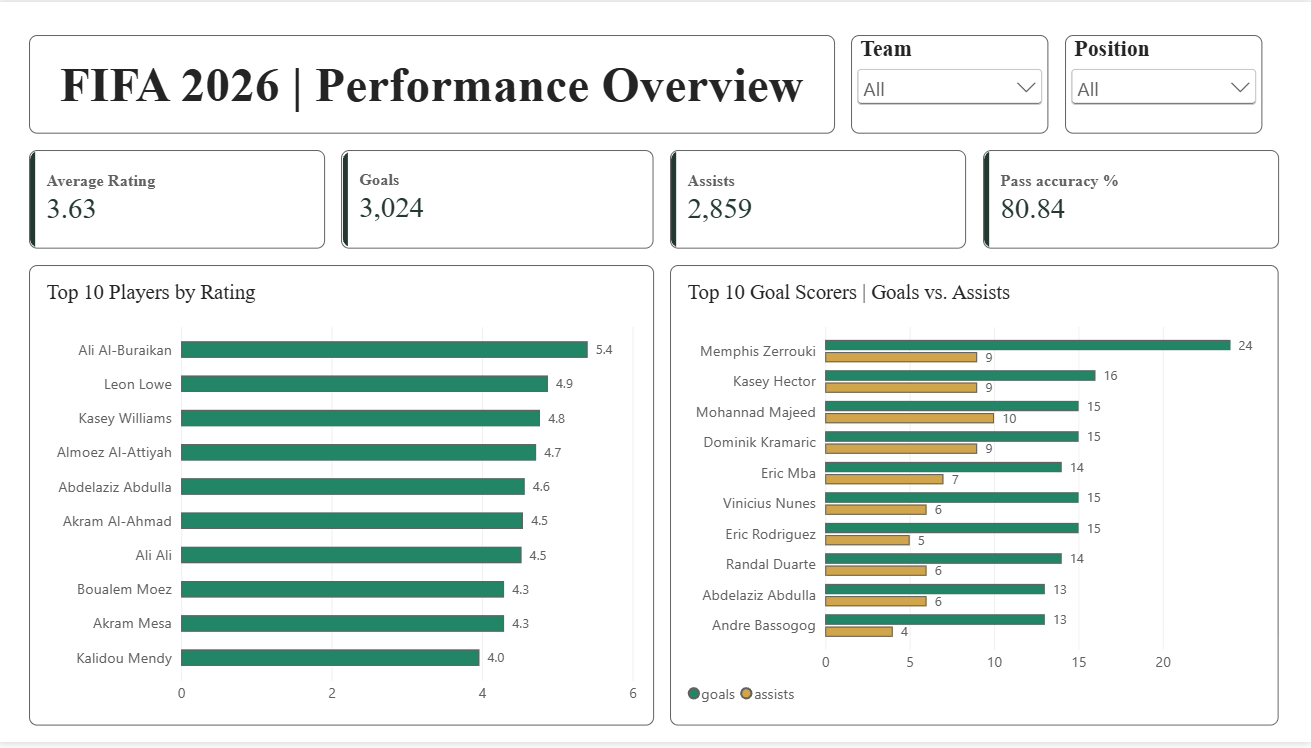

This screenshot's page, from the dashboard's own definition file:
{"tool":"powerbi","page":{"name":"Team","canvas":[1280,720],"ordinal":0},"visuals":[{"type":"clusteredBarChart","title":"Top 10 Players by Rating","fields":{"Category":["fifa_world_cup_2026_player_performance.player_name"],"Y":["fifa_world_cup_2026_player_performance.Average Rating"]},"box":[32,256,608,448],"z":0},{"type":"clusteredBarChart","title":"Top 10 Goal Scorers | Goals vs. Assists","fields":{"Category":["fifa_world_cup_2026_player_performance.player_name"],"Y":["Sum(fifa_world_cup_2026_player_performance.goals)","Sum(fifa_world_cup_2026_player_performance.assists)"]},"box":[656,256,592,448],"z":1000},{"type":"cardVisual","title":"Average Rating","fields":{"Data":["fifa_world_cup_2026_player_performance.Average Rating"]},"box":[32,144,288,96],"z":2000},{"type":"cardVisual","fields":{"Data":["Sum(fifa_world_cup_2026_player_performance.goals)"]},"box":[336,144,304,96],"z":3000},{"type":"cardVisual","fields":{"Data":["Sum(fifa_world_cup_2026_player_performance.assists)"]},"box":[656,144,288,96],"z":4000},{"type":"cardVisual","fields":{"Data":["fifa_world_cup_2026_player_performance.Average Pass accuracy"]},"box":[960,144,288,96],"z":5000},{"type":"slicer","fields":{"Values":["fifa_world_cup_2026_player_performance.team"]},"box":[832,32,192,96],"z":6000},{"type":"slicer","fields":{"Values":["fifa_world_cup_2026_player_performance.position"]},"box":[1040,32,192,96],"z":7000},{"type":"textbox","box":[32,32,784,96],"z":8000}]}

Visuals, with their boxes in screenshot pixels (x1, y1, x2, y2), scaled from the page's 1280x720 canvas onto the 1311x748 screenshot:
"Top 10 Players by Rating" clusteredBarChart: BBox(33, 266, 656, 731)
"Top 10 Goal Scorers | Goals vs. Assists" clusteredBarChart: BBox(672, 266, 1278, 731)
"Average Rating" cardVisual: BBox(33, 150, 328, 249)
cardVisual - Sum(fifa_world_cup_2026_player_performance.goals): BBox(344, 150, 656, 249)
cardVisual - Sum(fifa_world_cup_2026_player_performance.assists): BBox(672, 150, 967, 249)
cardVisual - fifa_world_cup_2026_player_performance.Average Pass accuracy: BBox(983, 150, 1278, 249)
slicer - fifa_world_cup_2026_player_performance.team: BBox(852, 33, 1049, 133)
slicer - fifa_world_cup_2026_player_performance.position: BBox(1065, 33, 1262, 133)
textbox: BBox(33, 33, 836, 133)
